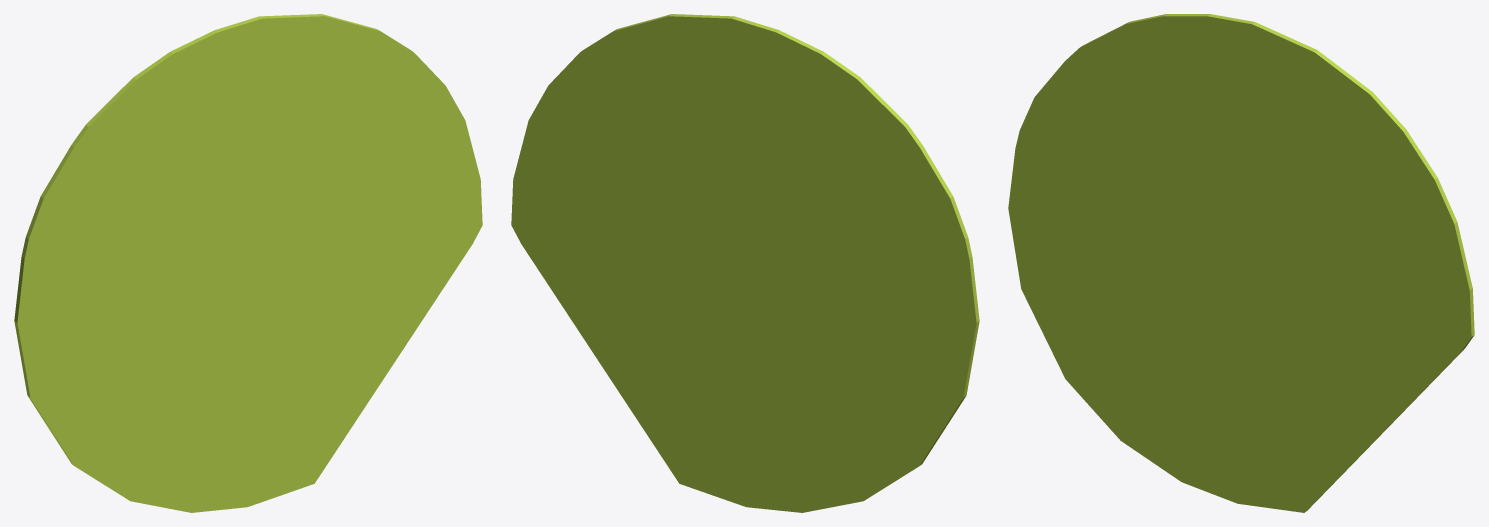
The picture shows the model from 3 angles, left to right: view 1: azimuth 30°, elevation 25°; view 2: azimuth 150°, elevation 25°; view 3: azimuth 330°, elevation 25°; orthographic projection.
Visible parts, largest first — view 1: osm-way27917482-F0; view 2: osm-way27917482-F0; view 3: osm-way27917482-F0.
Boxes of the visible parts, x1=… form: osm-way27917482-F0: x1=14, y1=14, x2=482, y2=512; osm-way27917482-F0: x1=511, y1=14, x2=979, y2=512; osm-way27917482-F0: x1=1008, y1=14, x2=1474, y2=512.
Bounding box in the file's own units: 12.99 × 12.94 × 0.15.
